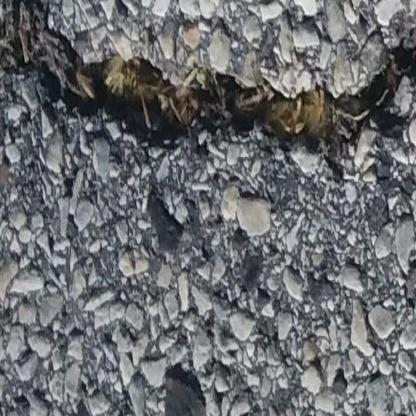Cracks: (0, 0, 416, 164)
